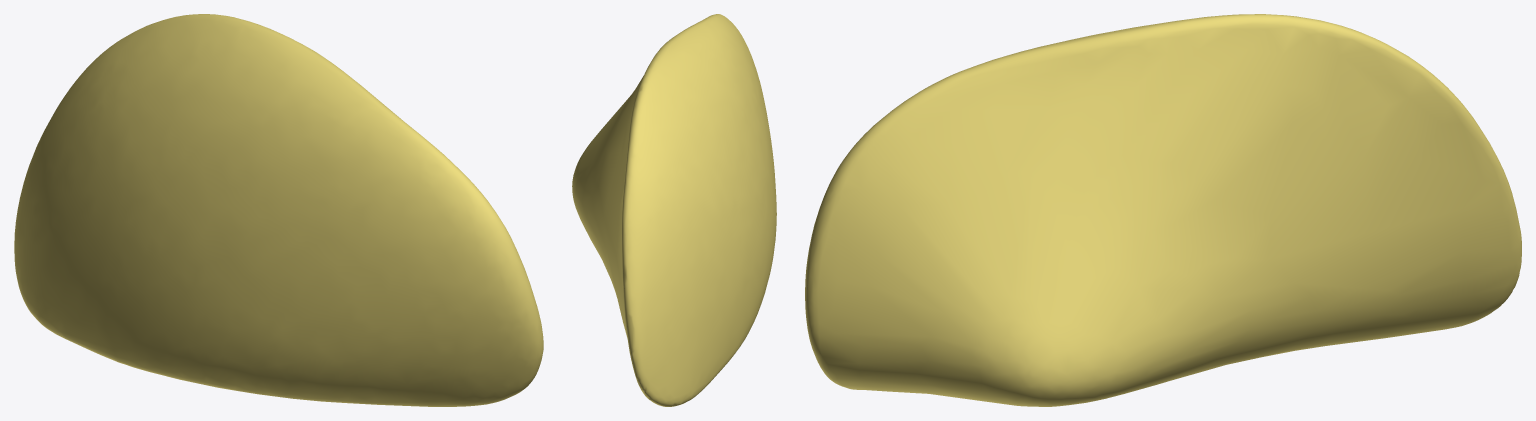
Rendered from globus-pallidus-r.glb.
3 renders of one model, left to right at view 1: azimuth 30°, elevation 25°; view 2: azimuth 150°, elevation 25°; view 3: azimuth 270°, elevation 25°, orthographic. The views are drawn at different scales.
Parts seen in each view (by area): view 1: Globus pallidus.r; view 2: Globus pallidus.r; view 3: Globus pallidus.r.
Part boxes in pixels (box(x1,y1,x2,y2)): Globus pallidus.r: box(14, 14, 543, 406); Globus pallidus.r: box(572, 14, 776, 406); Globus pallidus.r: box(805, 14, 1521, 406).
Size of the model in its own units: 0.0162 by 0.0168 by 0.0284.
